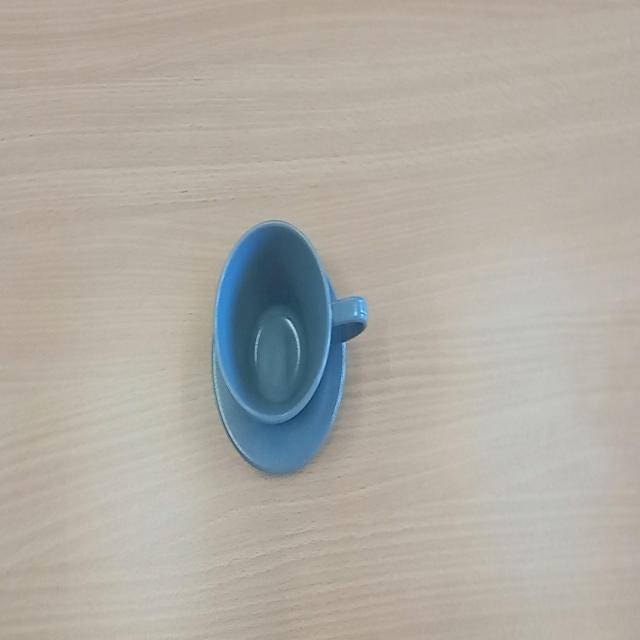cup: (210, 215, 372, 482)
